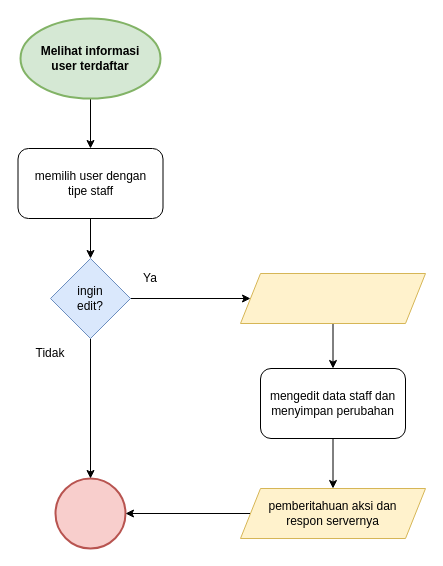
This 443x566 diagram has some shape labels left out. Each missing label, with the centre of its shape:
End: point 90,513
menekan tombol "edit": point 333,298
